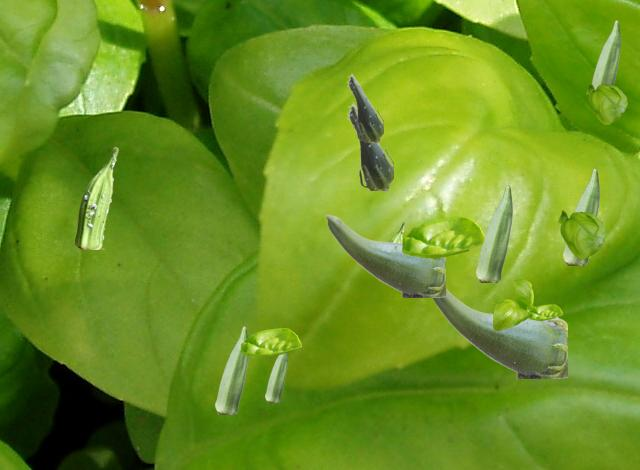okra: (431, 287, 566, 377), (325, 214, 444, 296), (75, 147, 117, 248), (347, 102, 392, 189), (563, 168, 598, 264), (476, 185, 511, 281), (215, 326, 247, 413), (347, 73, 382, 141), (591, 20, 619, 88), (265, 354, 286, 401), (389, 222, 404, 241)
